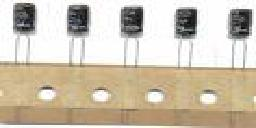Electrolytic-Capacitor: (169, 4, 202, 71), (64, 2, 94, 69), (9, 2, 39, 67), (225, 5, 254, 72), (116, 2, 143, 66)
